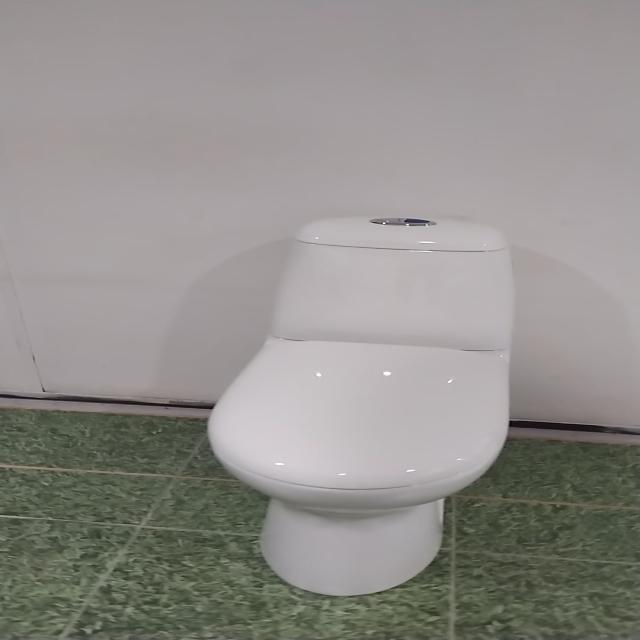toilet: (205, 215, 516, 596)
